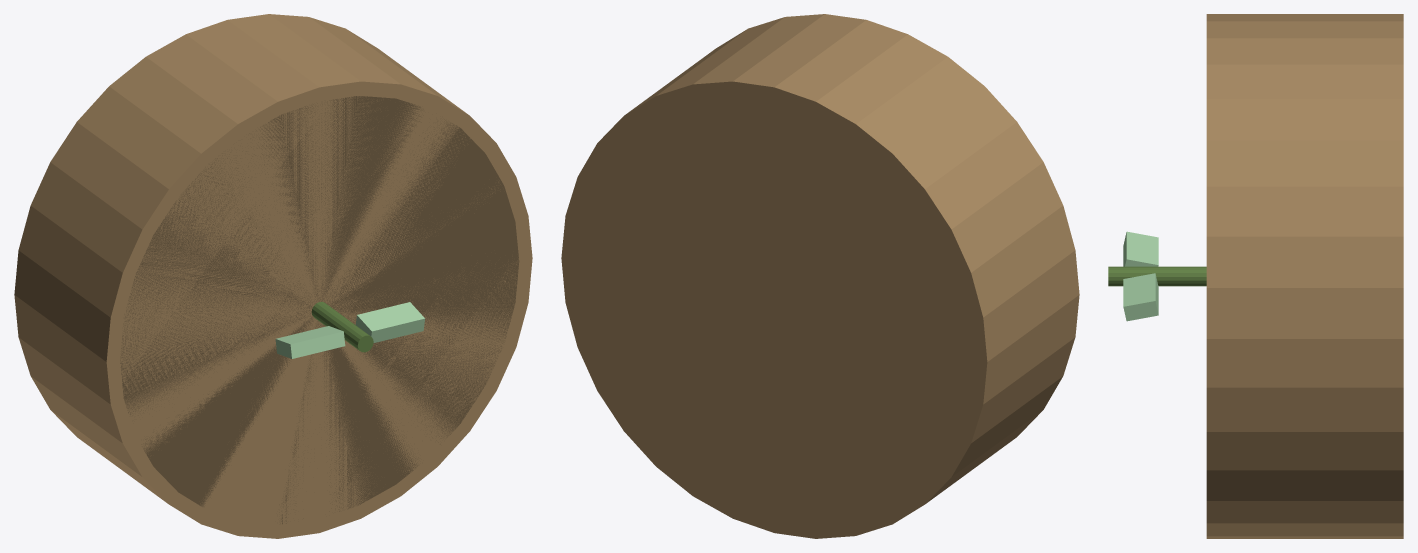
File: stage_1_germoglio.glb
3 views of the same model, side by side, from view 1: azimuth 30°, elevation 25°; view 2: azimuth 150°, elevation 25°; view 3: azimuth 270°, elevation 25° (orthographic). The views are drawn at different scales.
Visible parts, largest first — view 1: world; view 2: world; view 3: world.
Boxes of the visible parts, x1,y1,x2,y2 form: world: (14, 14, 532, 538); world: (561, 14, 1079, 538); world: (1108, 14, 1403, 538).
Size of the model in its own units: 16 by 16 by 9.
